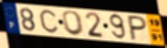2: (84, 12, 105, 40)
8: (19, 7, 37, 32)
9: (108, 13, 128, 41)
C: (39, 9, 60, 34)
O: (61, 10, 86, 37)
P: (127, 14, 148, 42)
